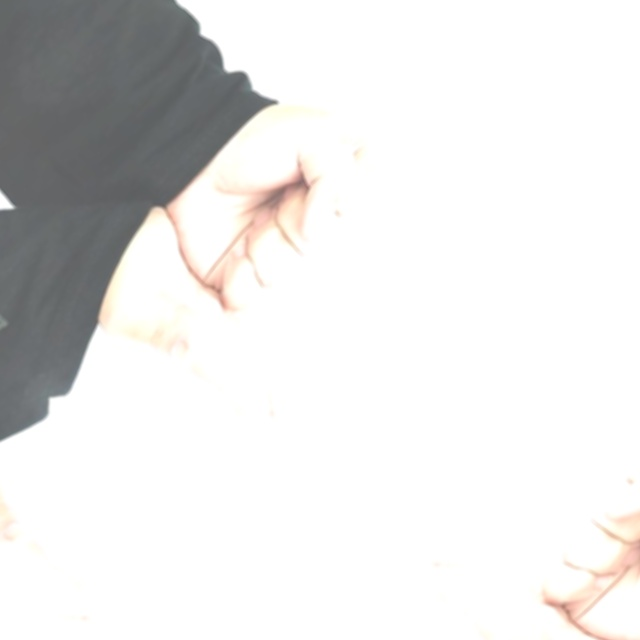Rock: (146, 66, 405, 330)
